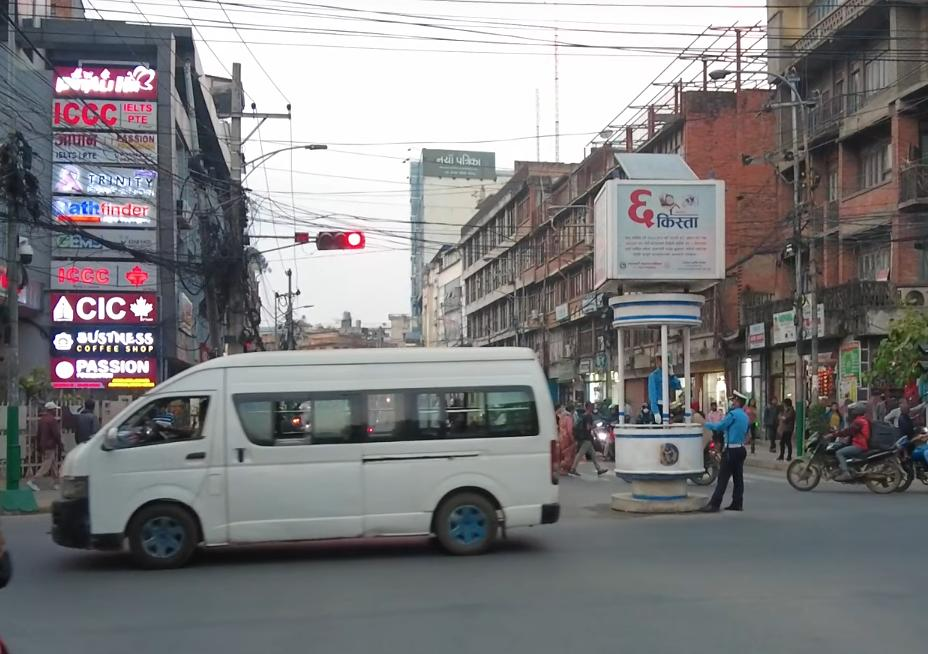bike: (784, 428, 906, 499)
micro_bus: (41, 334, 577, 580)
